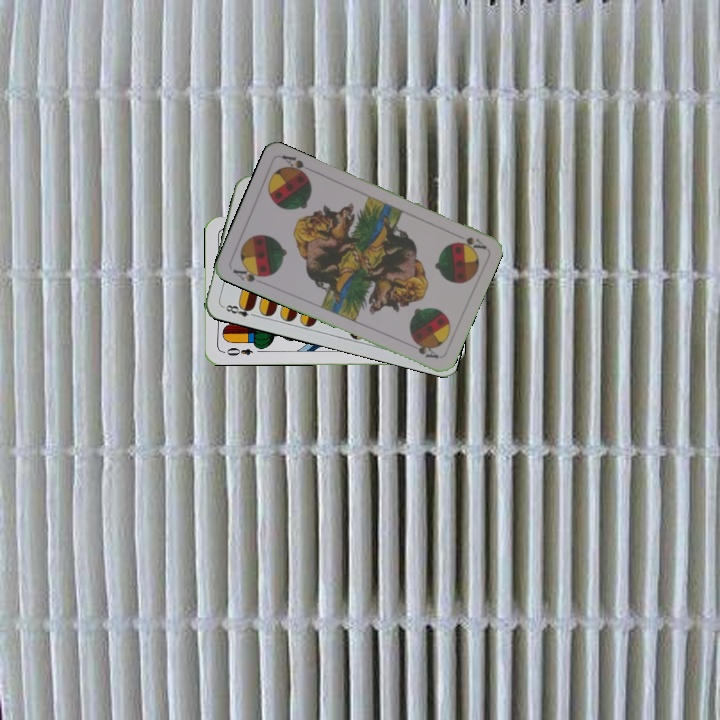E8: (219, 299, 259, 319)
EO: (223, 344, 255, 358)
SA: (228, 262, 270, 285), (449, 229, 488, 252)
